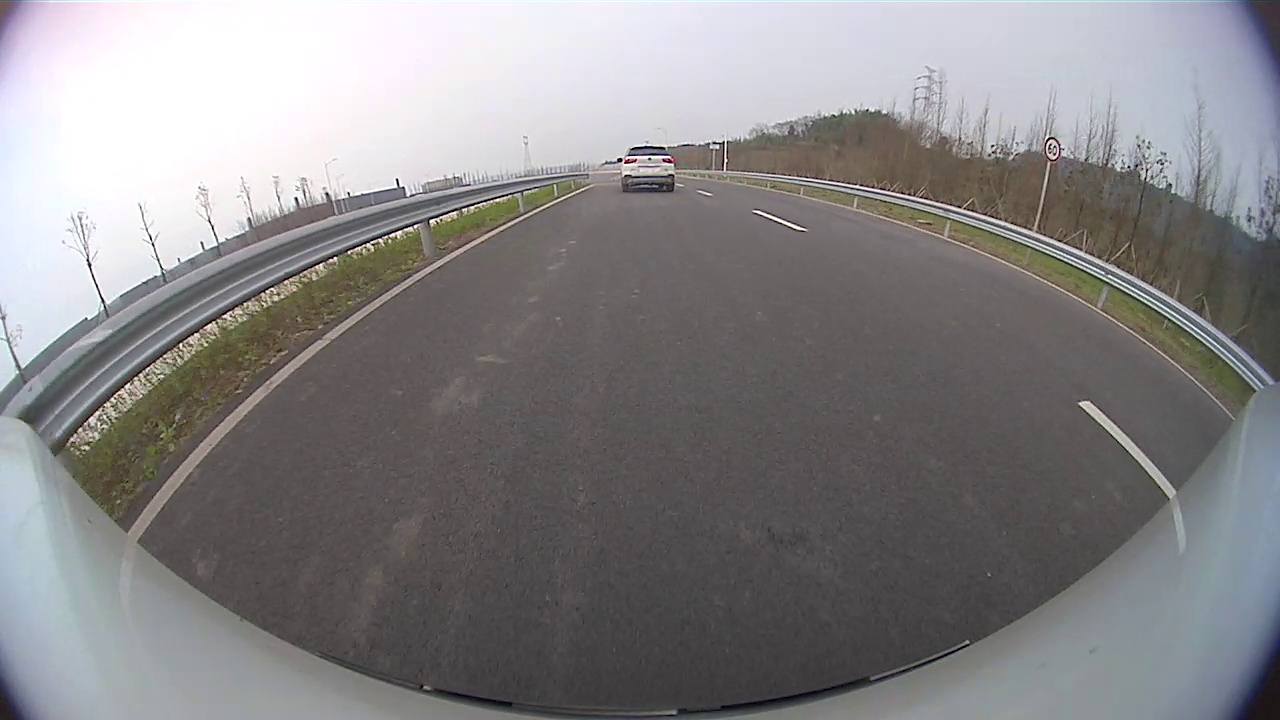car: (617, 144, 676, 192)
